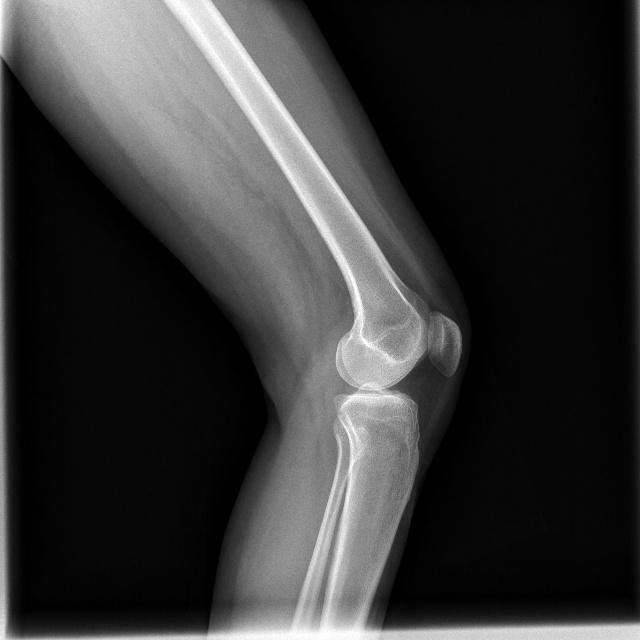Knee: (323, 301, 464, 450)
